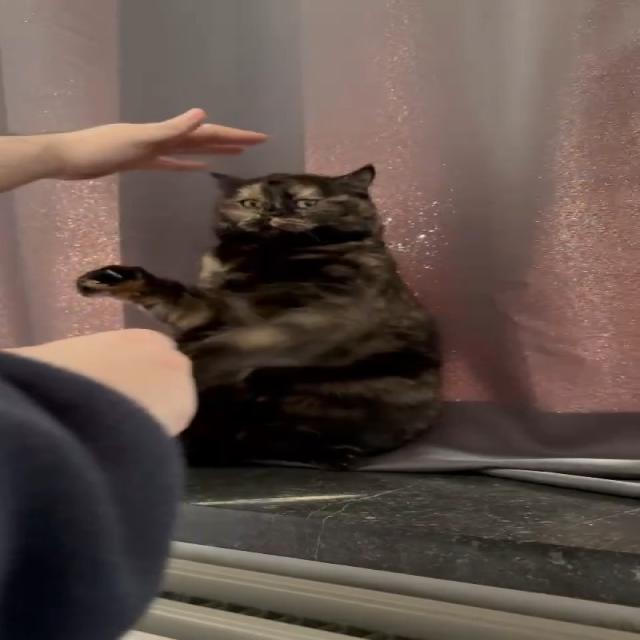authorized: (75, 162, 444, 471)
